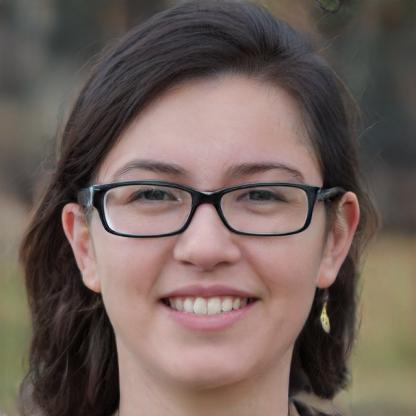glasses: (86, 178, 322, 238)
